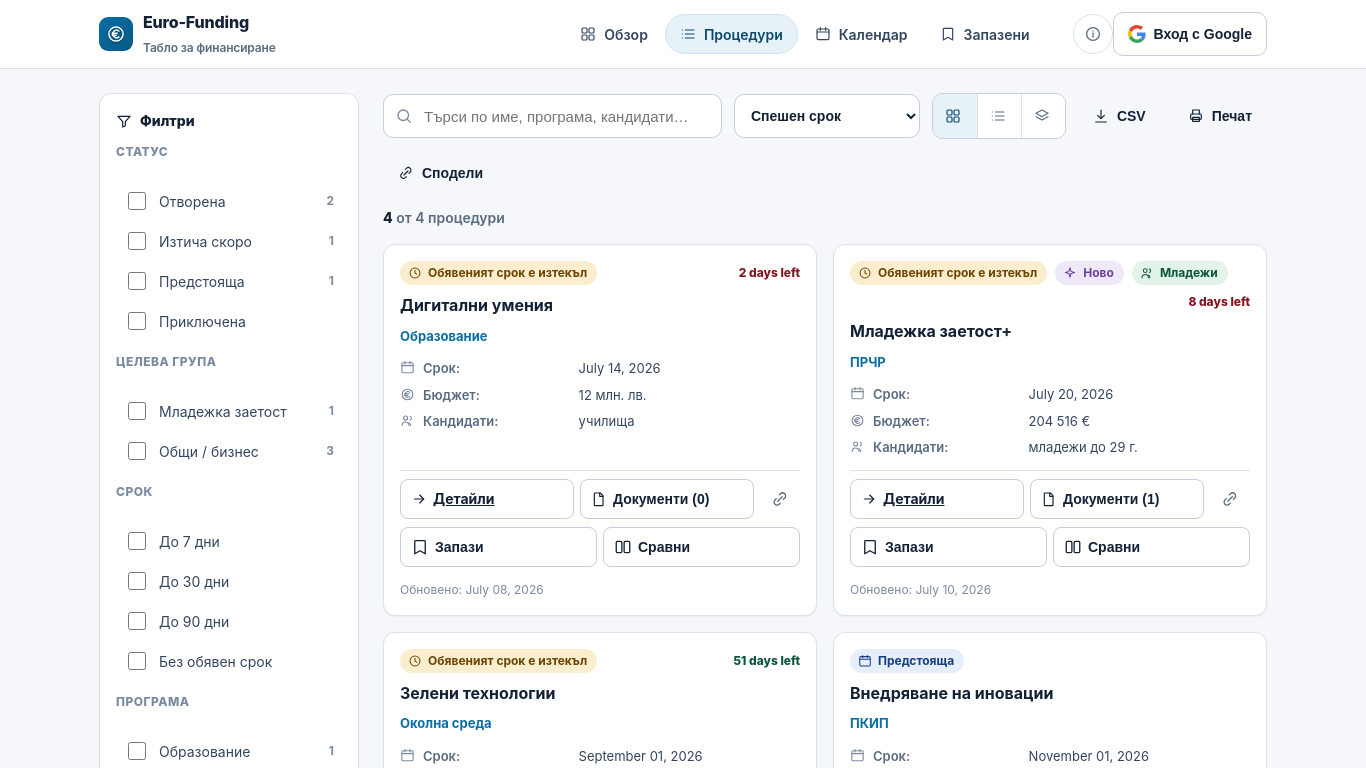
Test: Търсене и филтри › комбиниран филтър + „Изчисти всички“
# Отвори филтър по статус „Отворена“
Click the checkbox labelled "Отворена 2": (137, 201) top-left (128, 192), bottom-right (146, 210)
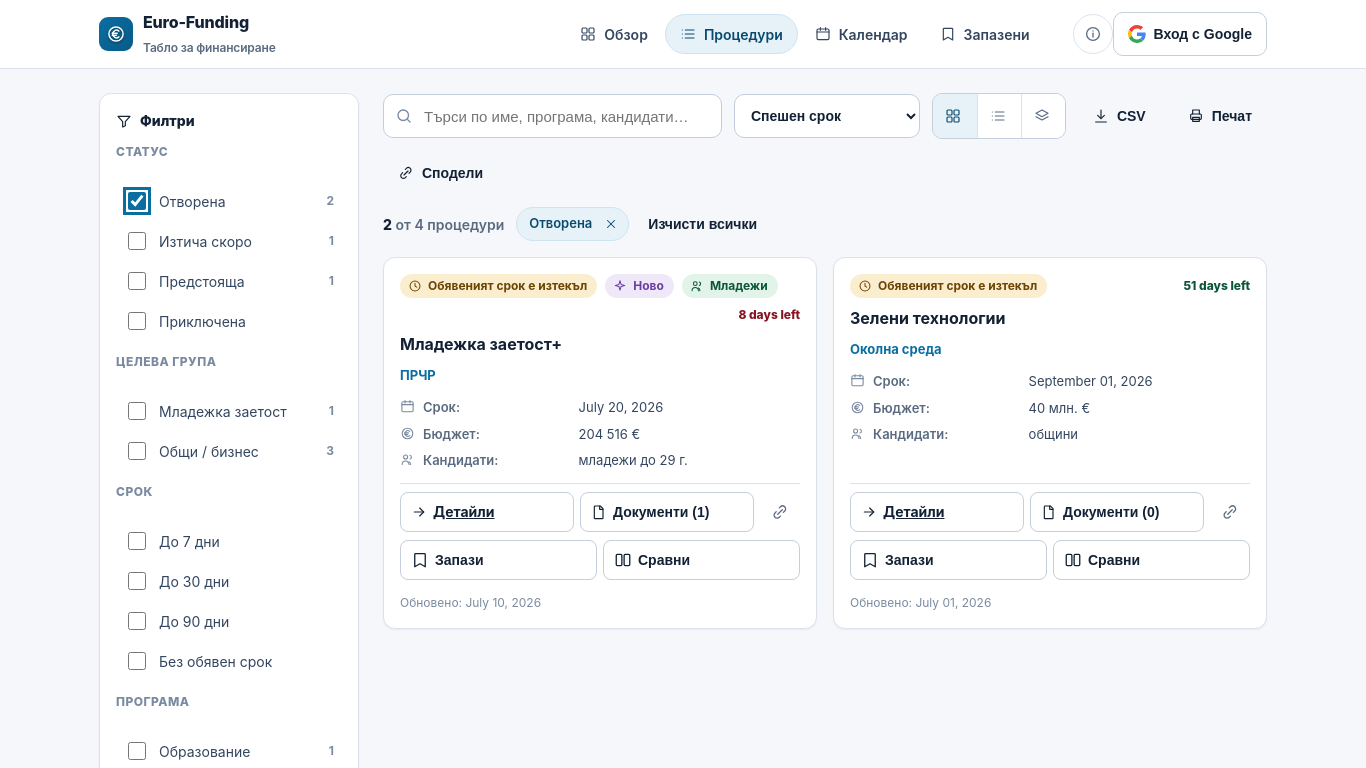
Expected: the heading "Зелени технологии" is shown, top-left (850, 308), bottom-right (1006, 328)
Expected: the heading "Дигитални умения" is gone
# Изчисти всички (в чиповете)
Click the button "Изчисти всички": (703, 224) top-left (637, 207), bottom-right (768, 241)
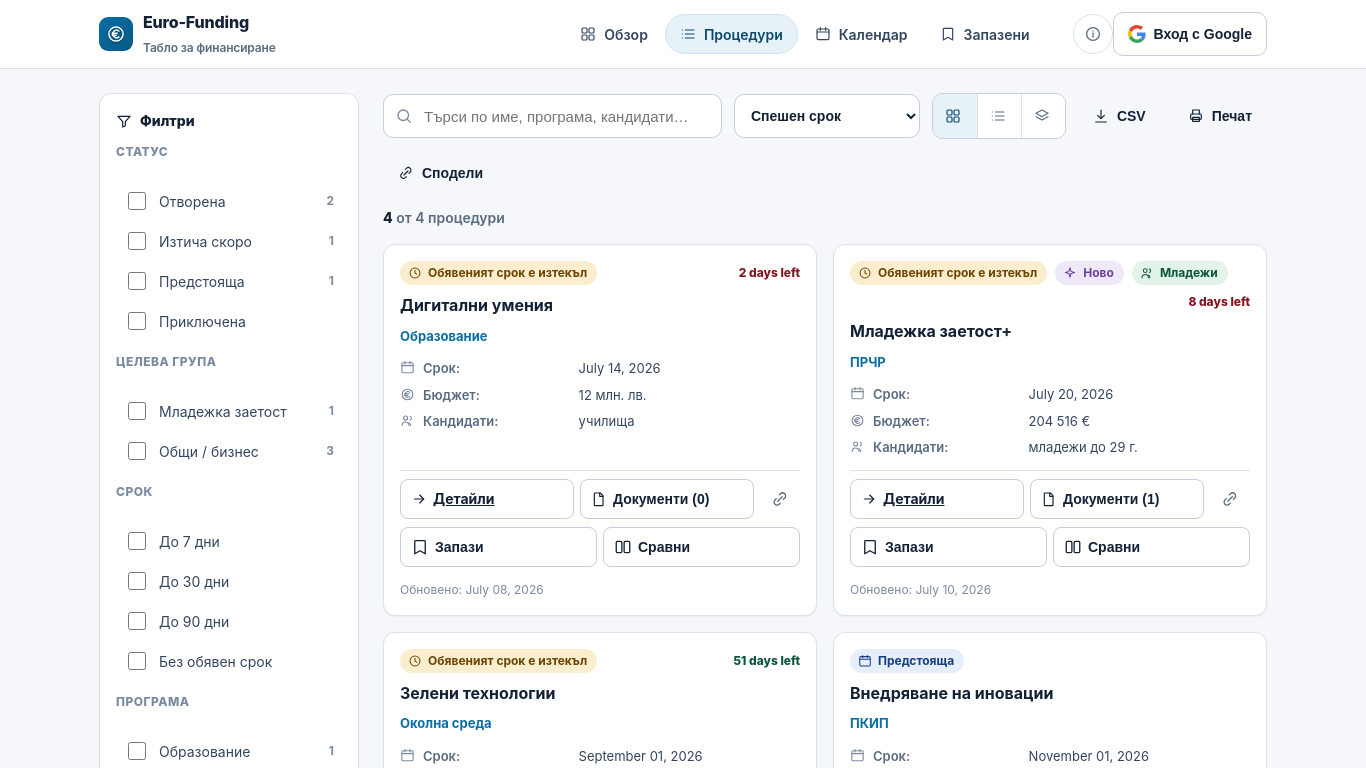
Expected: the heading "Дигитални умения" is shown, top-left (400, 295), bottom-right (553, 315)
